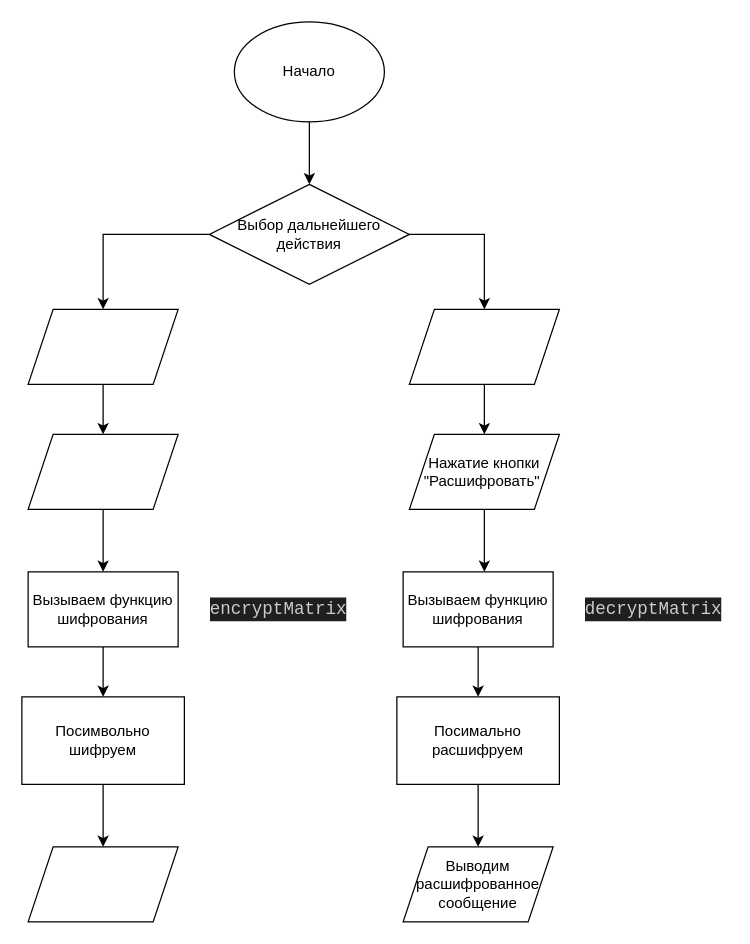
Some shapes in this 750 by 944 pixel diagram are drawn without their labels. Here are the shapes that lost their labels. From the top down, the centre of each, then its label:
(x=102, y=346): Ввод данных для шифрования
(x=483, y=346): Ввод данных для расшифрования
(x=102, y=471): Нажатие кнопки "Шифровать"
(x=102, y=884): Выводим зашифрованное сообщение
